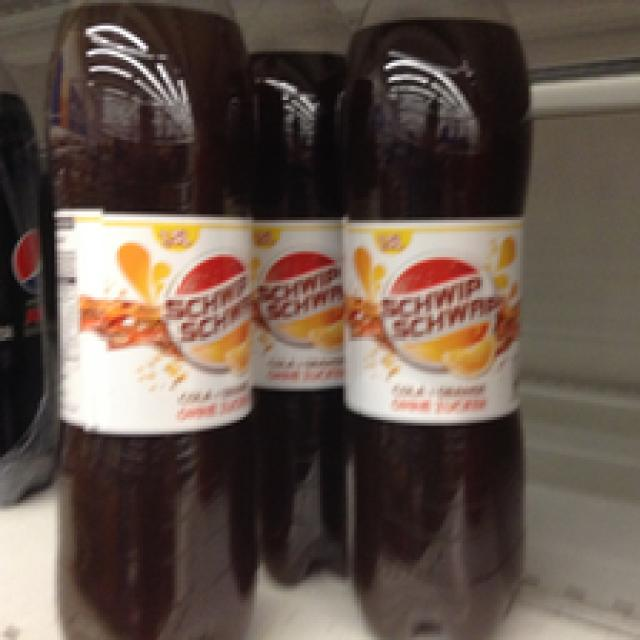groceries: (40, 0, 249, 637), (332, 3, 534, 637)
